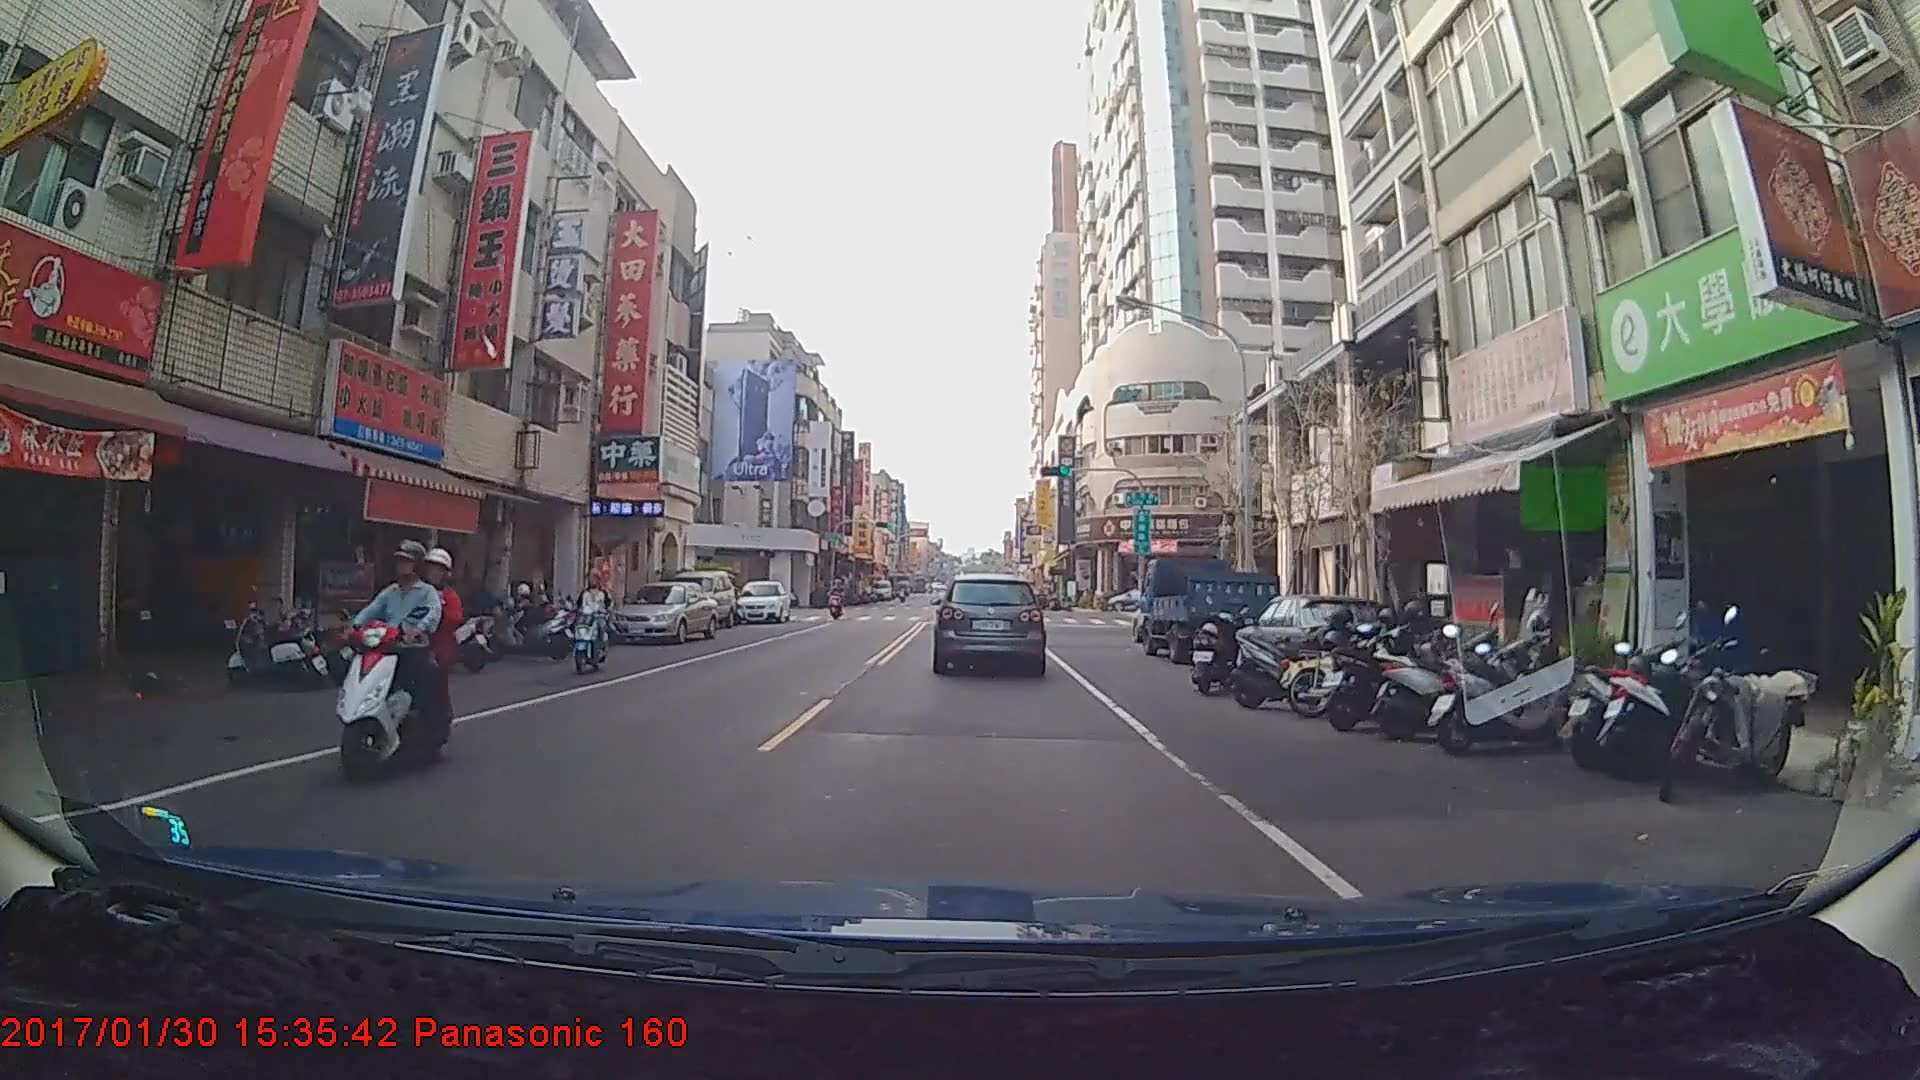rider: (317, 539, 453, 780), (573, 570, 618, 676), (827, 581, 847, 625)
vehicle: (1137, 550, 1281, 664), (934, 573, 1046, 674), (606, 580, 719, 643), (665, 565, 739, 628), (734, 578, 788, 624)
